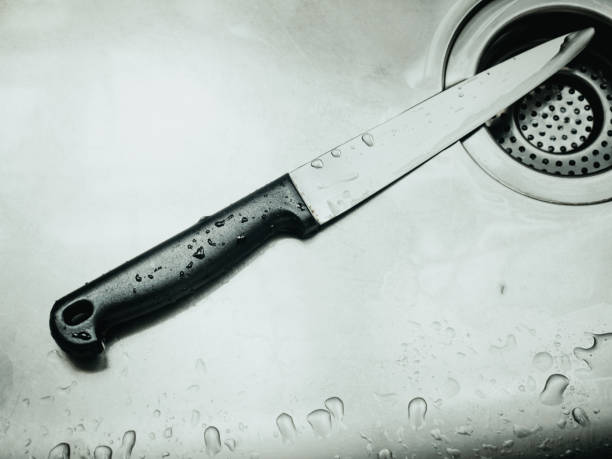knife: (48, 26, 600, 359)
